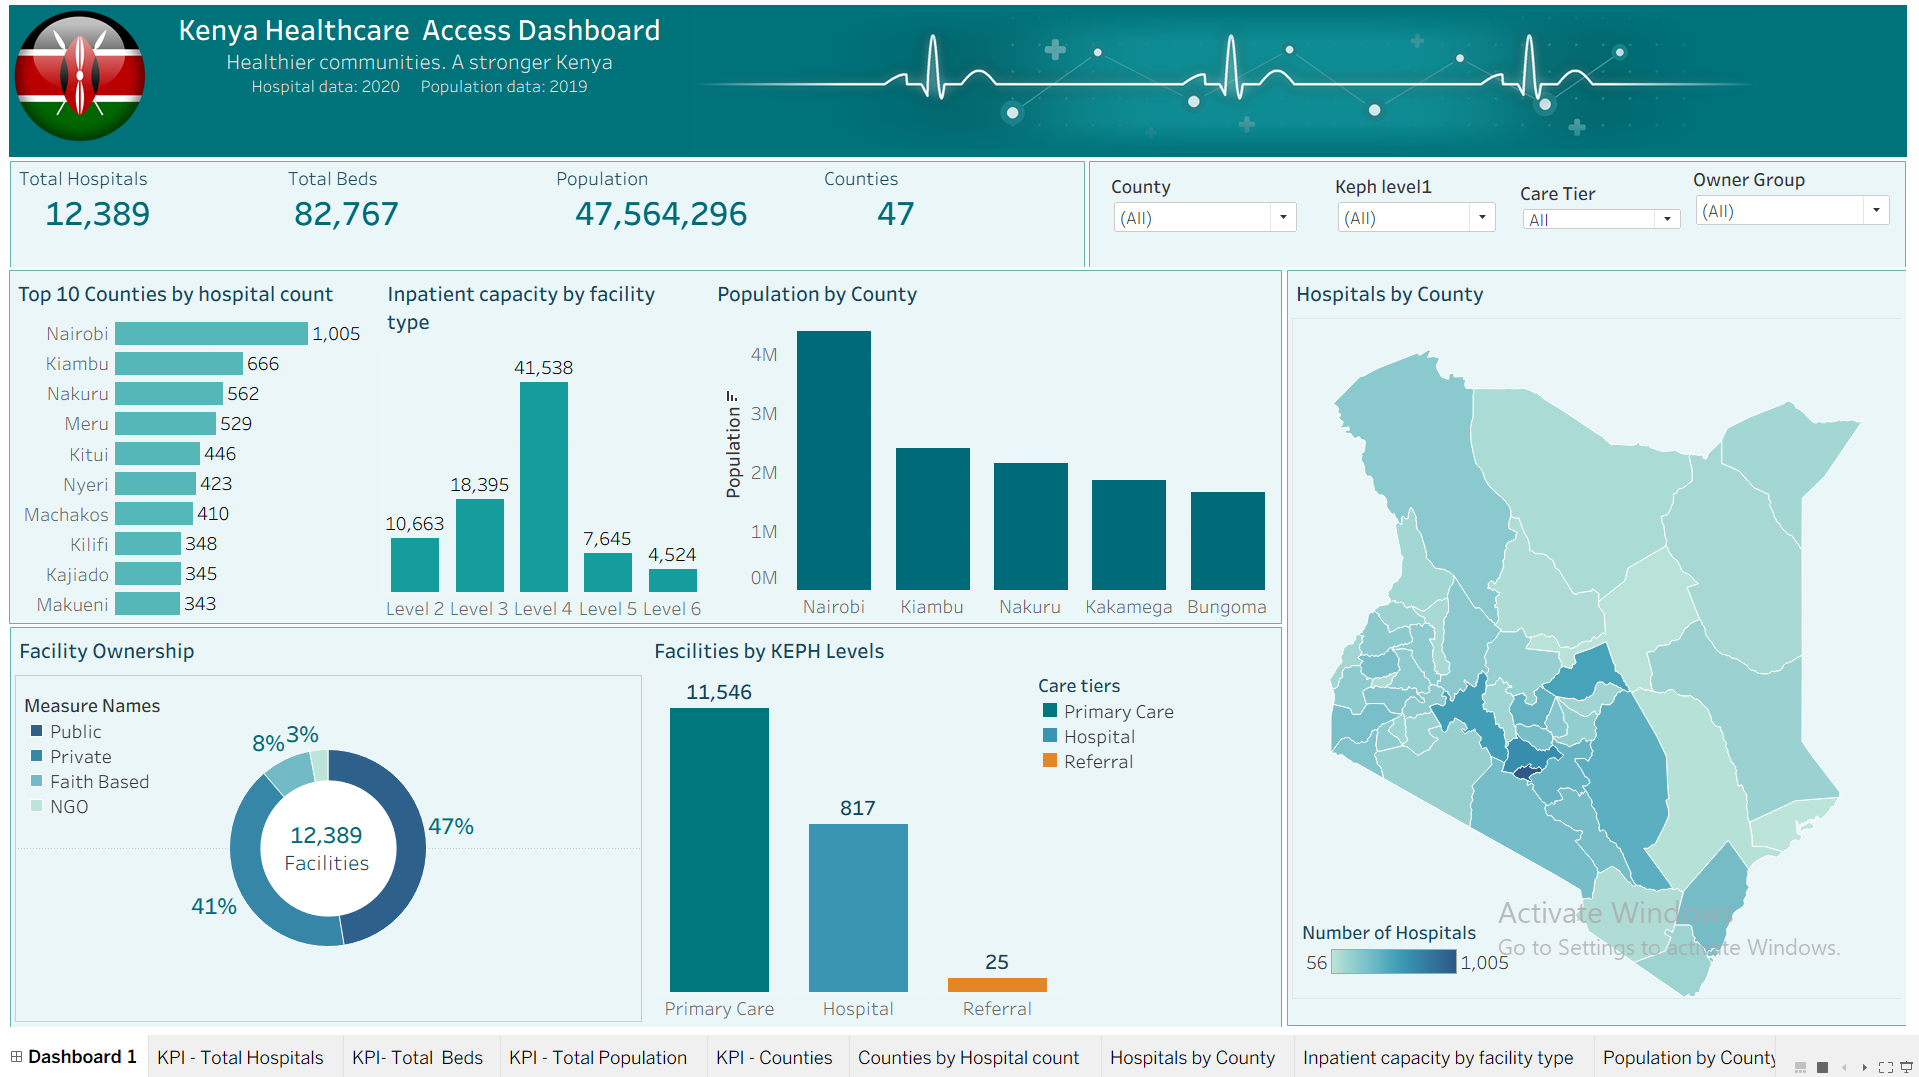

The page's visual inventory and layout, read from the dashboard file:
{"tool":"tableau","page":{"name":"Dashboard 1","canvas":[1000,1000],"units":"permille","ordinal":0},"visuals":[{"type":"image","param":"Image/Flag_orb_Kenya.png","box":[4.9,5,87.9,146.4]},{"type":"text","box":[92.8,5,336,121.6]},{"type":"image","param":"Image/kenya_banner_blend_1746x236.png","box":[428.8,5,564.4,146.4]},{"type":"worksheet","title":"KPI - Total Hospitals","mark":"Automatic","box":[6.2,156.3,139.7,100.5]},{"type":"worksheet","title":"KPI- Total  Beds","mark":"Automatic","box":[145.9,156.3,139.7,100.5]},{"type":"worksheet","title":"KPI - Total Population","mark":"Automatic","box":[285.5,156.3,139.7,100.5]},{"type":"worksheet","title":"KPI - Counties","mark":"Automatic","box":[425.2,156.3,139.7,100.5]},{"type":"filter","title":"Donut_facility ownership","param":"[federated.0qofc2e0gf0trs11wmdpx1j898ni].[none:owner_group:nk]","box":[881.6,160.1,104.1,86.9]},{"type":"filter","title":"Counties by Hospital count","param":"[federated.0qofc2e0gf0trs11wmdpx1j898ni].[none:county:nk]","box":[578.6,167.5,98.5,76.9]},{"type":"filter","title":"Inpatient capacity by facility type","param":"[federated.0qofc2e0gf0trs11wmdpx1j898ni].[none:Keph level:nk]","box":[695.1,167.5,85.4,76.9]},{"type":"parameter","param":"[Parameters].[Parameter 0645753238855686]","box":[791.8,173.7,85.4,70.7]},{"type":"worksheet","title":"Counties by Hospital count","mark":"Automatic","rows":["county"],"cols":["facilities"],"box":[5.4,261.8,230.1,339.9]},{"type":"worksheet","title":"Inpatient capacity by facility type","mark":"Automatic","rows":["Beds and Cots"],"cols":["Calculation_0472030546362368"],"box":[235.5,261.8,205.7,339.9]},{"type":"worksheet","title":"Population by County (Top 5)","mark":"Automatic","rows":["population"],"cols":["county"],"box":[441.2,261.8,225.8,339.9]},{"type":"worksheet","title":"Hospitals by County","mark":"Multipolygon","box":[670.7,261.8,321.5,728.3]},{"type":"worksheet","title":"Donut_facility ownership","mark":"Pie","rows":["Calculation_1184510350319626","Calculation_1184510350360588"],"box":[6.2,606.7,330.4,384.6]},{"type":"worksheet","title":"Healthcare Facilities Across KEPH Levels","mark":"Bar","box":[336.7,606.7,330.4,384.6]},{"type":"legend","title":"Healthcare Facilities Across KEPH Levels","param":"[federated.0qofc2e0gf0trs11wmdpx1j898ni].[:Measure Names]","box":[540.5,648.9,122.2,127.8]},{"type":"legend","title":"Donut_facility ownership","param":"[federated.0qofc2e0gf0trs11wmdpx1j898ni].[:Measure Names]","box":[12.5,668.7,87.3,156.3]},{"type":"legend","title":"Hospitals by County","param":"[federated.0qofc2e0gf0trs11wmdpx1j898ni].[usr:Calculation_0645753239547911:qk]","box":[678.3,888.3,110.4,96.8]}]}

Visuals, with their boxes on the dashboard's canvas, which has no fixed pixel size, in thousandths of its width and height (x1, y1, x2, y2). These are canvas units, not pixel positions in the 1919x1077 screenshot, which may show the page scaled, cropped or inside an application window:
image: {"left": 5, "top": 5, "right": 93, "bottom": 151}
text: {"left": 93, "top": 5, "right": 429, "bottom": 127}
image: {"left": 429, "top": 5, "right": 993, "bottom": 151}
"KPI - Total Hospitals" worksheet: {"left": 6, "top": 156, "right": 146, "bottom": 257}
"KPI- Total  Beds" worksheet: {"left": 146, "top": 156, "right": 286, "bottom": 257}
"KPI - Total Population" worksheet: {"left": 286, "top": 156, "right": 425, "bottom": 257}
"KPI - Counties" worksheet: {"left": 425, "top": 156, "right": 565, "bottom": 257}
"Donut_facility ownership" filter: {"left": 882, "top": 160, "right": 986, "bottom": 247}
"Counties by Hospital count" filter: {"left": 579, "top": 168, "right": 677, "bottom": 244}
"Inpatient capacity by facility type" filter: {"left": 695, "top": 168, "right": 780, "bottom": 244}
parameter: {"left": 792, "top": 174, "right": 877, "bottom": 244}
"Counties by Hospital count" worksheet: {"left": 5, "top": 262, "right": 236, "bottom": 602}
"Inpatient capacity by facility type" worksheet: {"left": 236, "top": 262, "right": 441, "bottom": 602}
"Population by County (Top 5)" worksheet: {"left": 441, "top": 262, "right": 667, "bottom": 602}
"Hospitals by County" worksheet (Multipolygon marks): {"left": 671, "top": 262, "right": 992, "bottom": 990}
"Donut_facility ownership" worksheet (Pie marks): {"left": 6, "top": 607, "right": 337, "bottom": 991}
"Healthcare Facilities Across KEPH Levels" worksheet (Bar marks): {"left": 337, "top": 607, "right": 667, "bottom": 991}
"Healthcare Facilities Across KEPH Levels" legend: {"left": 540, "top": 649, "right": 663, "bottom": 777}
"Donut_facility ownership" legend: {"left": 12, "top": 669, "right": 100, "bottom": 825}
"Hospitals by County" legend: {"left": 678, "top": 888, "right": 789, "bottom": 985}
